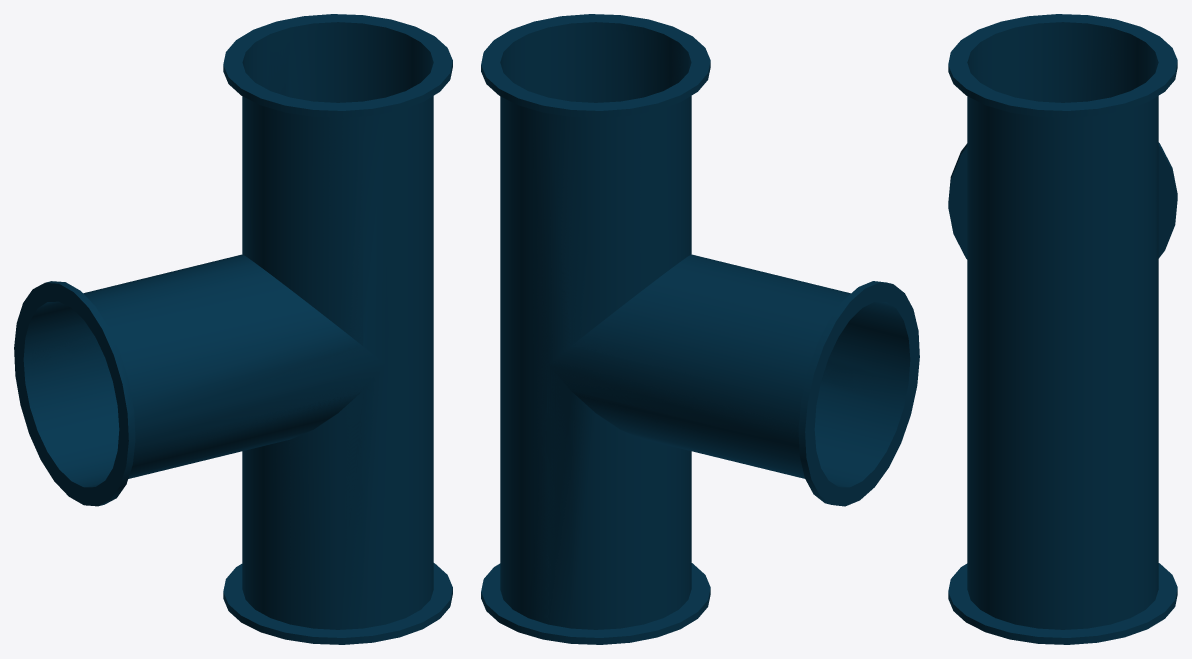
File: pipe_t_junction.dae
The picture shows the model from 3 angles, left to right: view 1: azimuth 30°, elevation 25°; view 2: azimuth 150°, elevation 25°; view 3: azimuth 270°, elevation 25°; orthographic projection.
Visible parts, largest first — view 1: coords_ME_ID11_MA_material_27, coords_ME_ID23_MA_material_27, coords_ME_ID3_MA_material_27, coords_ME_ID41_MA_material_27, coords_ME_ID29_MA_material_27, coords_ME_ID17_MA_material_27; view 2: coords_ME_ID11_MA_material_27, coords_ME_ID23_MA_material_27, coords_ME_ID3_MA_material_27, coords_ME_ID41_MA_material_27, coords_ME_ID29_MA_material_27, coords_ME_ID17_MA_material_27; view 3: coords_ME_ID11_MA_material_27, coords_ME_ID3_MA_material_27, coords_ME_ID41_MA_material_27, coords_ME_ID23_MA_material_27, coords_ME_ID29_MA_material_27.
Boxes of the visible parts, x1,y1,x2,y2 form: coords_ME_ID11_MA_material_27: [30, 29, 433, 629]; coords_ME_ID23_MA_material_27: [14, 281, 135, 506]; coords_ME_ID3_MA_material_27: [223, 14, 452, 117]; coords_ME_ID41_MA_material_27: [223, 563, 452, 644]; coords_ME_ID29_MA_material_27: [242, 22, 433, 65]; coords_ME_ID17_MA_material_27: [23, 302, 96, 487]; coords_ME_ID11_MA_material_27: [500, 29, 903, 629]; coords_ME_ID23_MA_material_27: [798, 281, 919, 506]; coords_ME_ID3_MA_material_27: [481, 14, 710, 117]; coords_ME_ID41_MA_material_27: [481, 563, 710, 644]; coords_ME_ID29_MA_material_27: [500, 22, 691, 65]; coords_ME_ID17_MA_material_27: [837, 302, 910, 487]; coords_ME_ID11_MA_material_27: [967, 29, 1158, 629]; coords_ME_ID3_MA_material_27: [948, 14, 1177, 117]; coords_ME_ID41_MA_material_27: [948, 563, 1177, 644]; coords_ME_ID23_MA_material_27: [948, 142, 1177, 259]; coords_ME_ID29_MA_material_27: [967, 22, 1158, 65].
Size of the model in its own units: 13.05 by 18.19 by 7.09.
